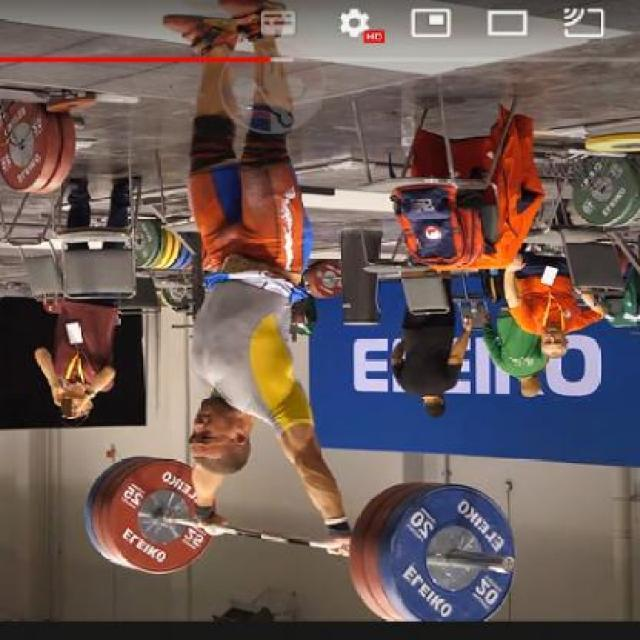Barbell: (496, 552, 521, 576)
